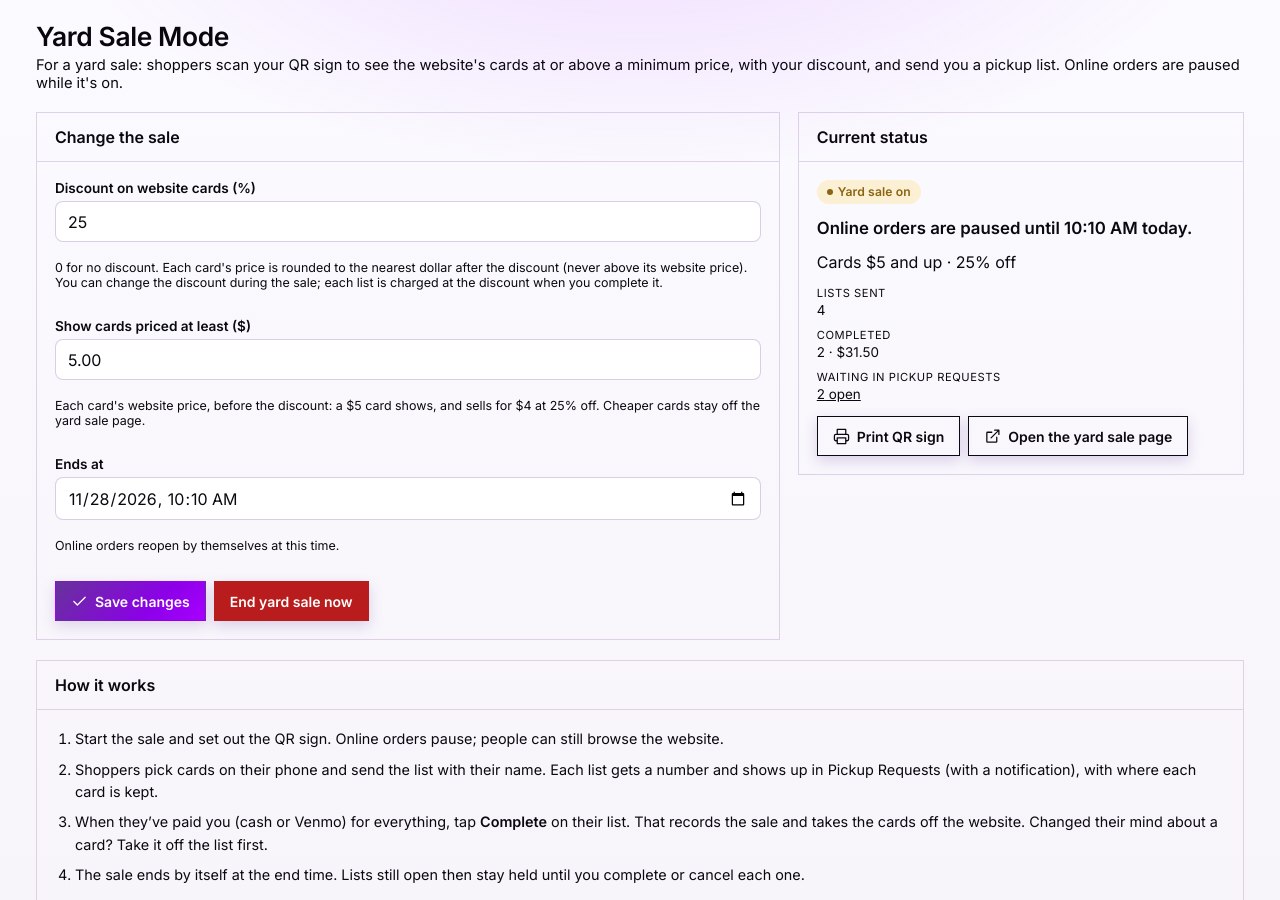
Test: the Yard Sale Mode page › changes the discount during the sale and ends it
Replace the text in the field labelled "Discount on website cards (%)" with "50" at (408, 222), box [55, 201, 761, 242]
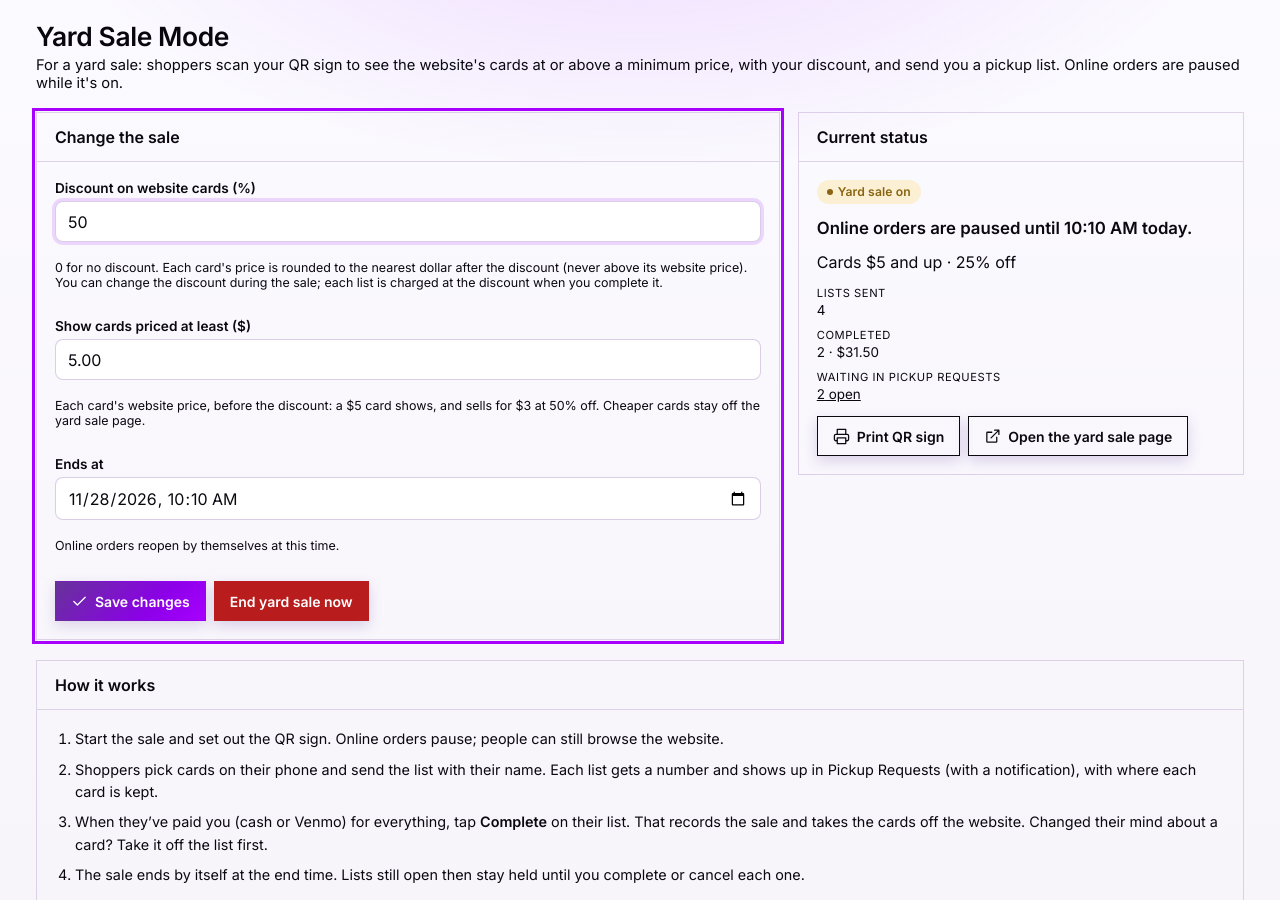
Click the button "Save changes" at (130, 601), box [55, 581, 206, 621]
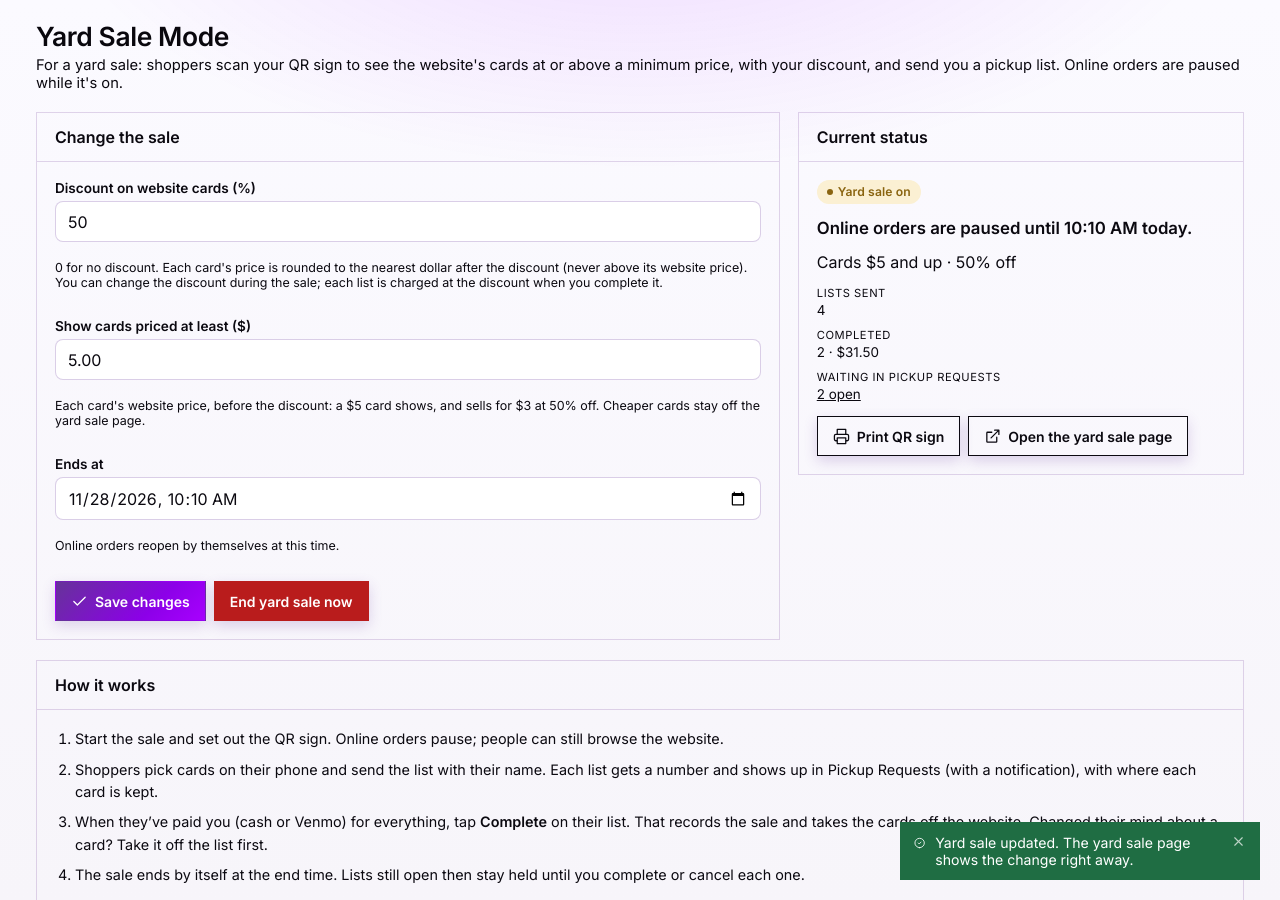
Click the button "End yard sale now" at (291, 601), box [214, 581, 369, 621]
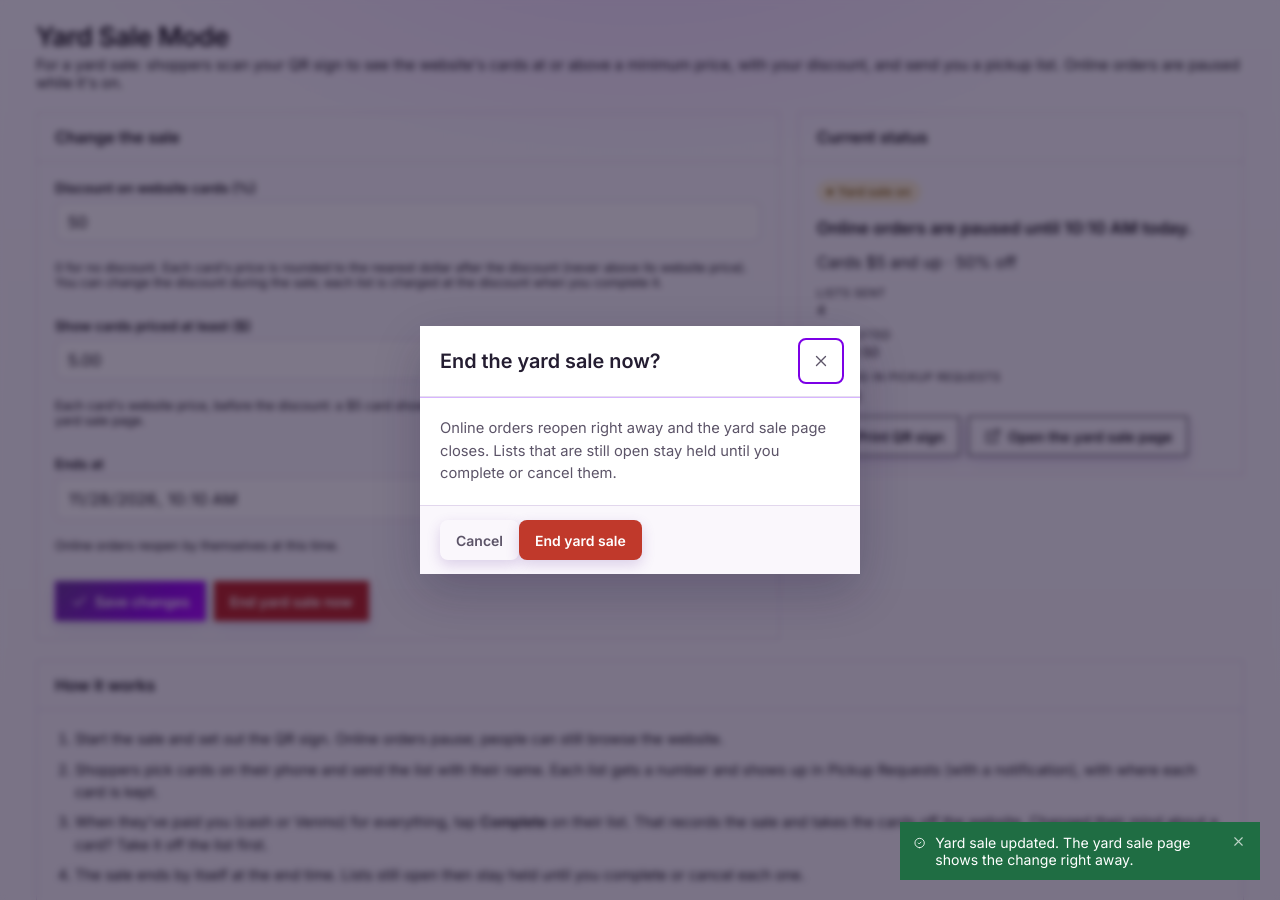
Click the button "End yard sale" at (580, 540), box [519, 520, 642, 560]
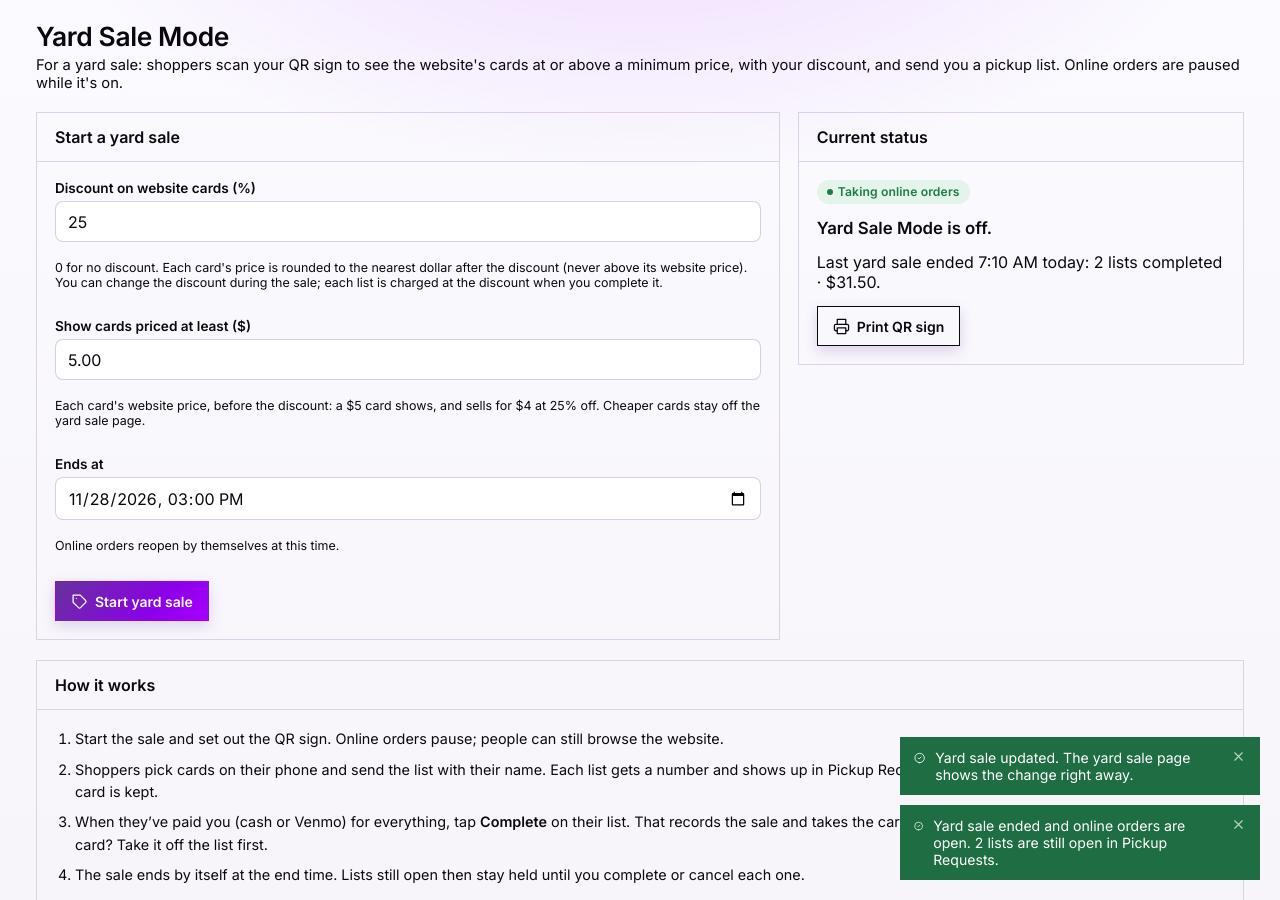
Expected: the heading "Yard Sale Mode is off." is shown, [817, 218, 992, 238]
